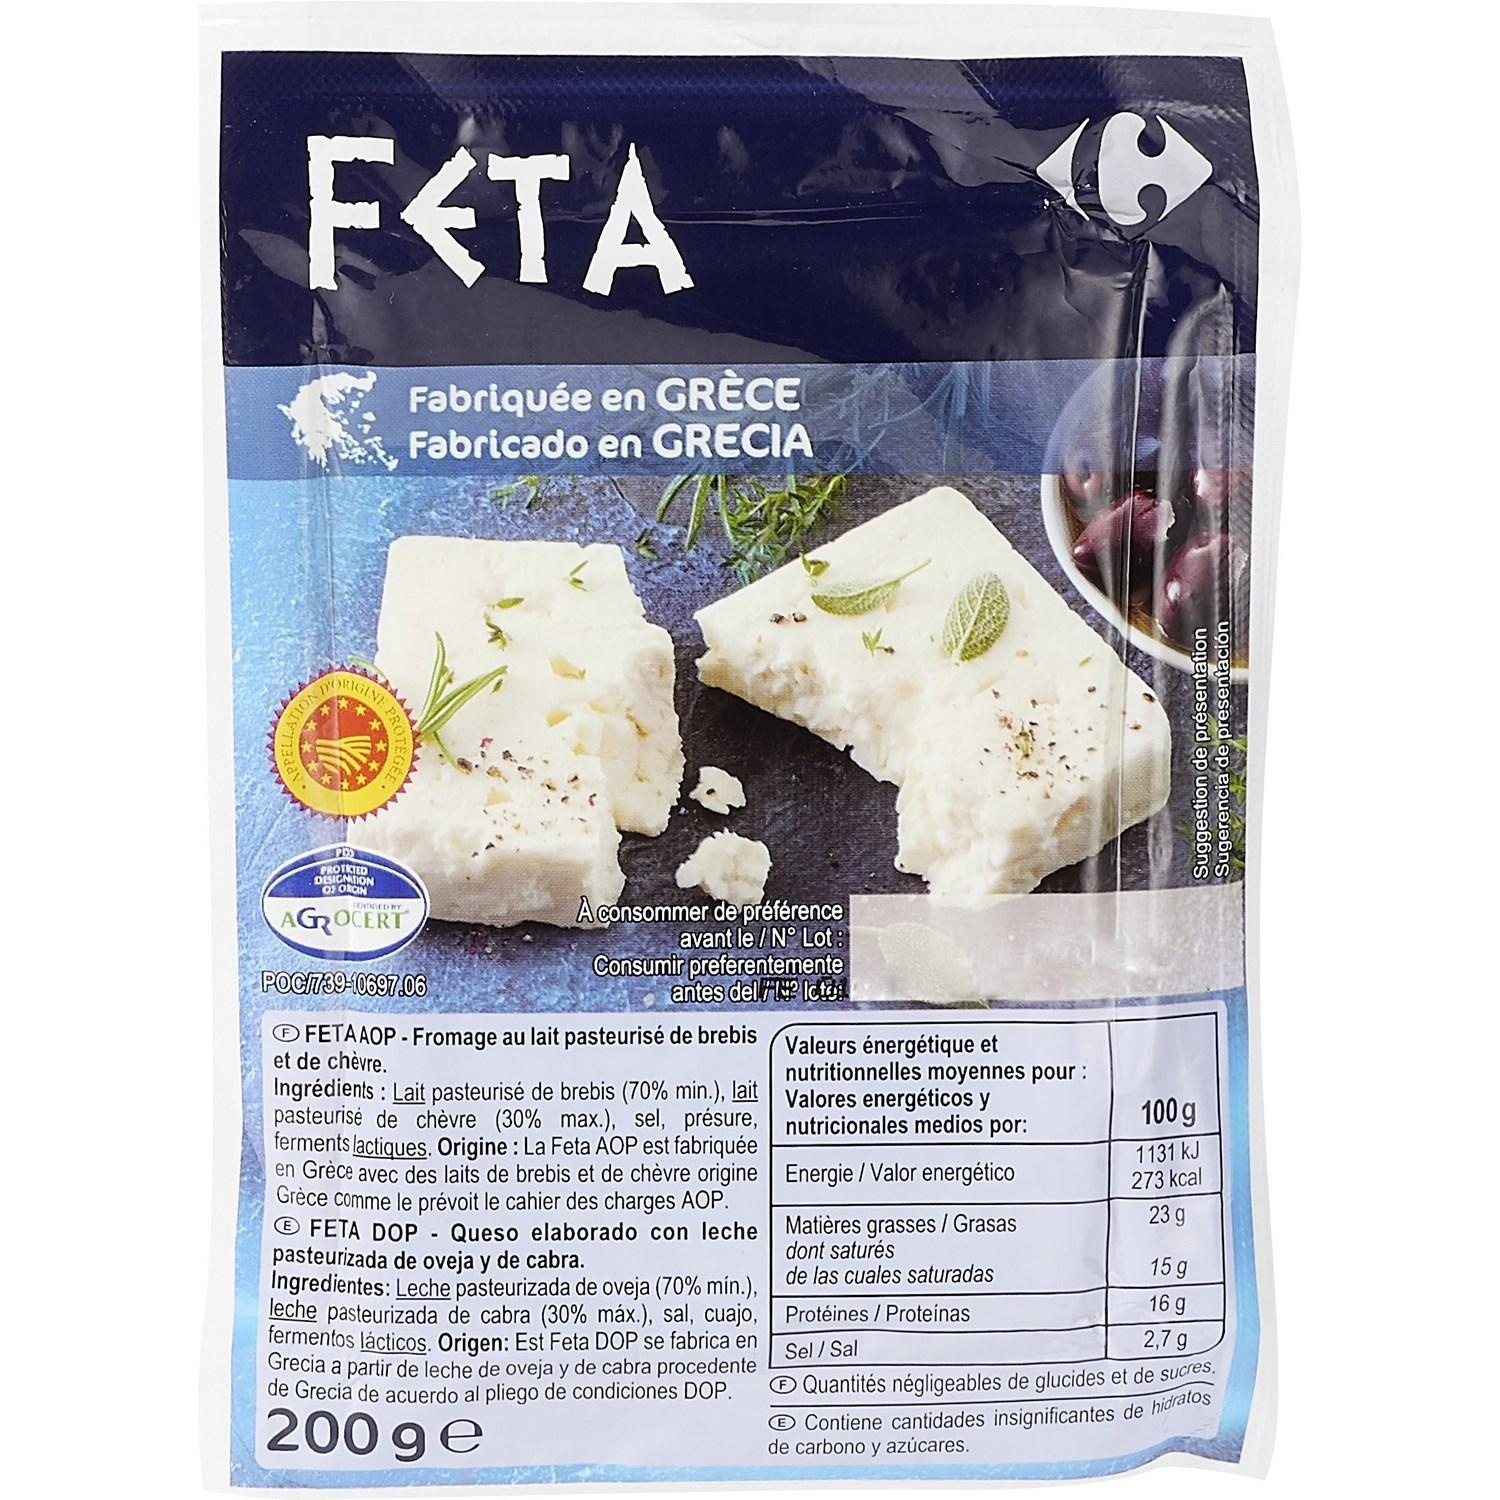column: (782, 1032, 1087, 1363), (1130, 1030, 1201, 1348)
table: (771, 1018, 1228, 1364)
